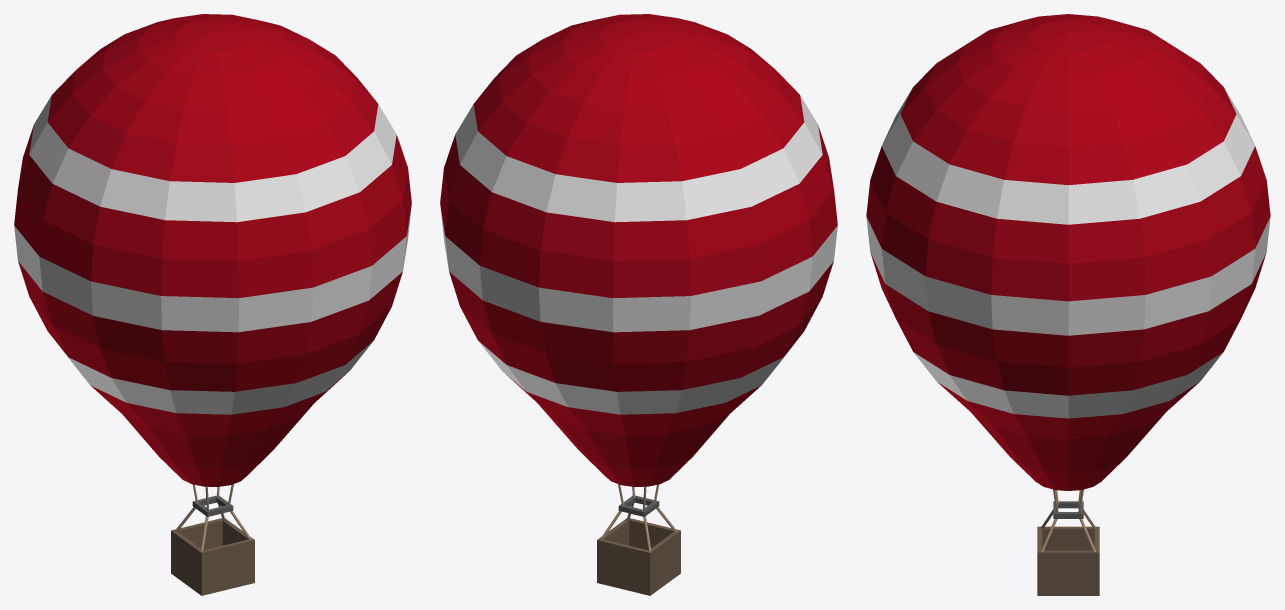
File: Montgolfière.fbx
The picture shows the model from 3 angles, left to right: view 1: azimuth 30°, elevation 25°; view 2: azimuth 150°, elevation 25°; view 3: azimuth 270°, elevation 25°; orthographic projection.
Visible parts, largest first — view 1: Montgolfière; view 2: Montgolfière; view 3: Montgolfière.
Boxes of the visible parts, bbox=[...] form: Montgolfière: bbox=[14, 14, 411, 595]; Montgolfière: bbox=[440, 14, 837, 595]; Montgolfière: bbox=[866, 14, 1270, 595].
Bounding box in the file's own units: 594 × 892 × 594.
